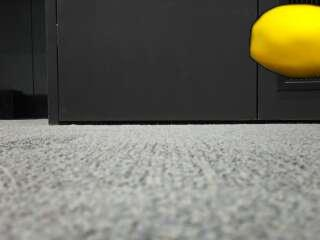lemon: (251, 3, 320, 76)
